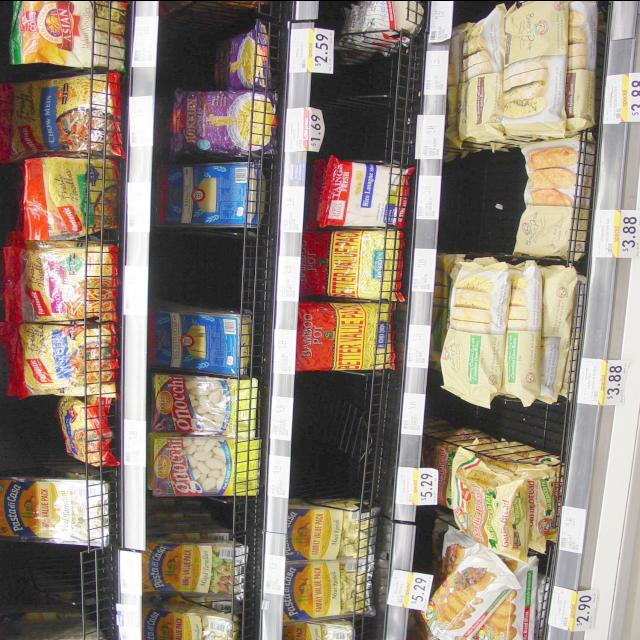empty_space: (302, 377, 386, 495), (14, 545, 114, 632), (336, 55, 416, 157), (152, 236, 256, 310), (450, 154, 518, 252), (457, 403, 570, 434)
